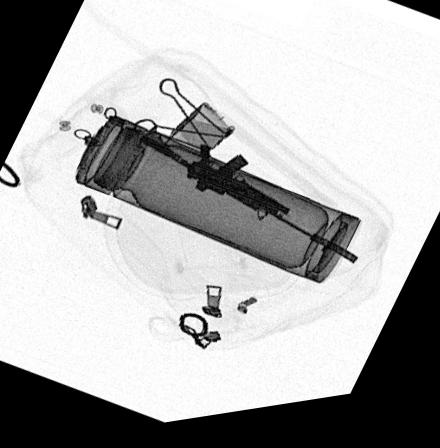Gun: (138, 126, 362, 277)
